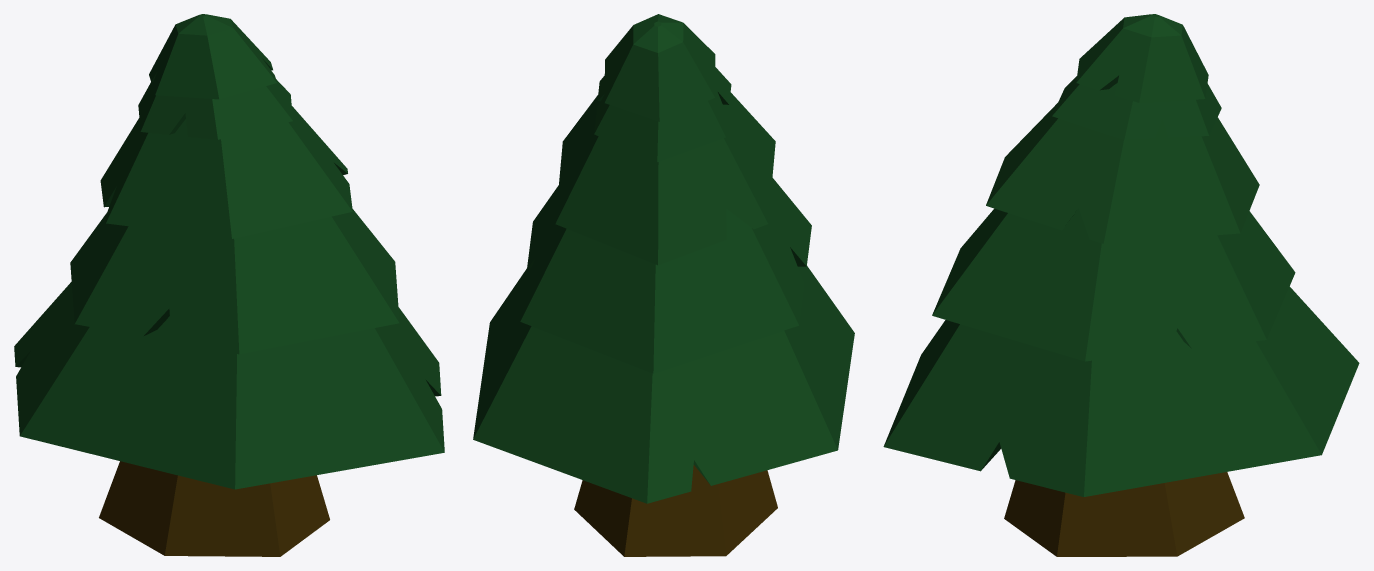
3 renders of one model, left to right at view 1: azimuth 30°, elevation 25°; view 2: azimuth 150°, elevation 25°; view 3: azimuth 270°, elevation 25°, orthographic. The views are drawn at different scales.
Parts seen in each view (by area): view 1: Cylinder.003; view 2: Cylinder.003; view 3: Cylinder.003.
Part boxes in pixels (x1,y1,x2,y2): Cylinder.003: (14, 14, 444, 556); Cylinder.003: (473, 14, 854, 556); Cylinder.003: (883, 14, 1359, 556).
Size of the model in its own units: 6.35 by 7.86 by 6.67.
